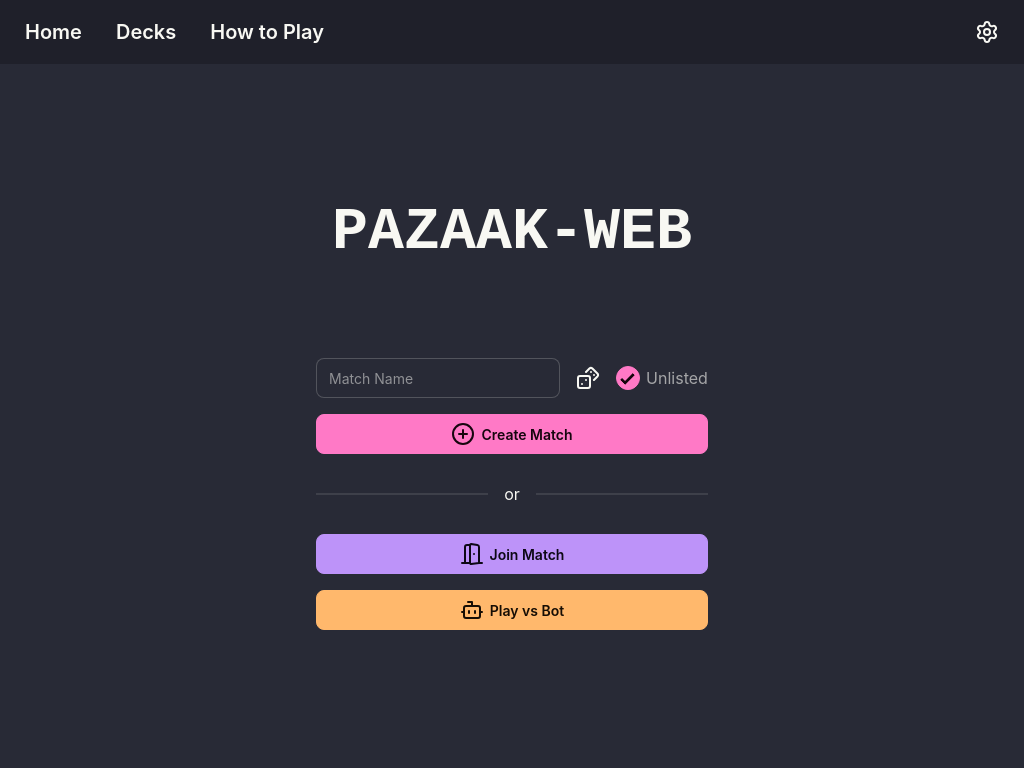
Scenario: Home page › requires a minimum name length before creating a match
Type "abc" into the field labelled "Match Name" at (438, 378), box 316,358 -> 560,398
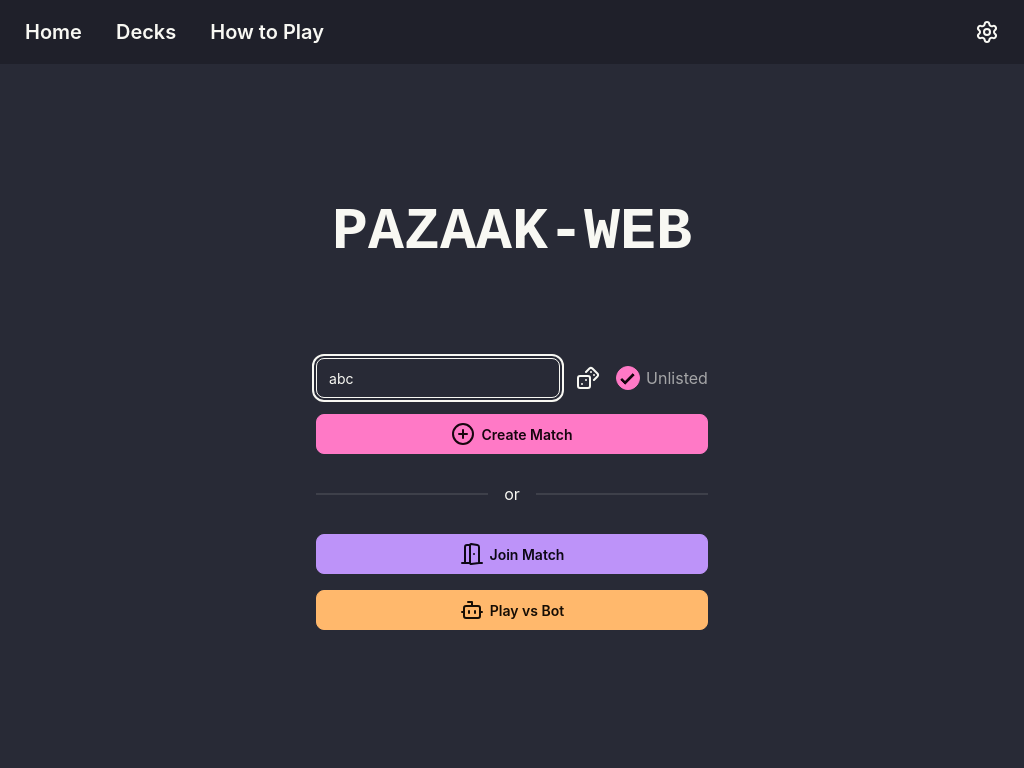
Click the button "Create Match" at (512, 434), box 316,414 -> 708,454
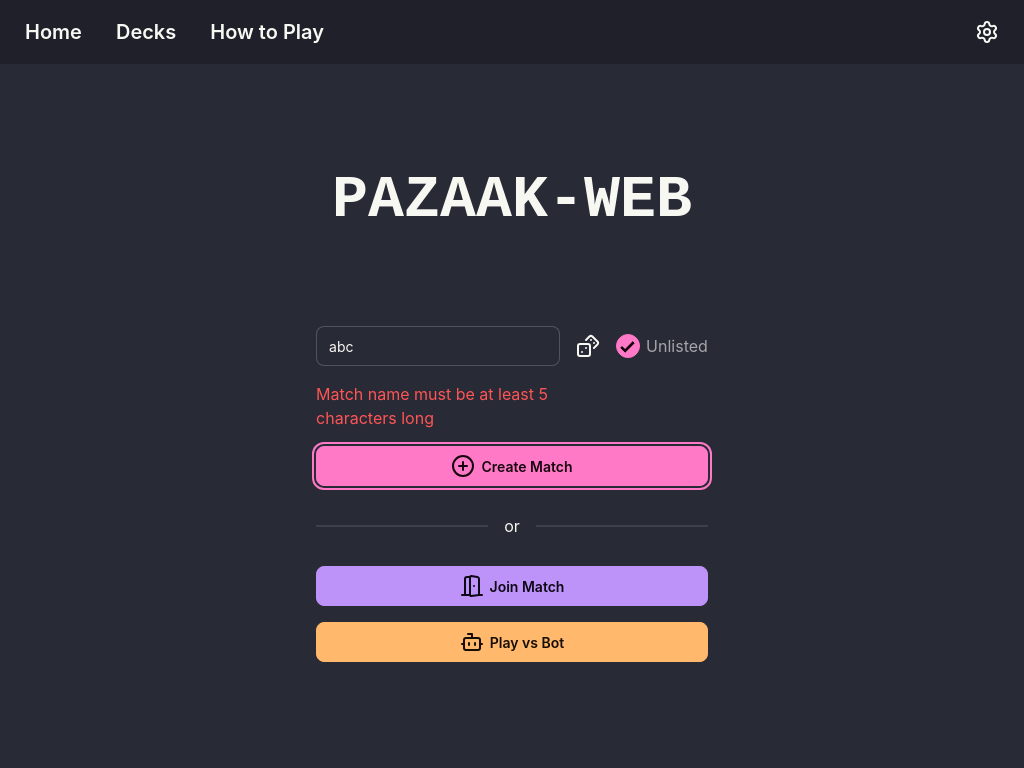
Check: the text "Match name must be at least 5 characters long" is shown, box 316,384 -> 548,428
